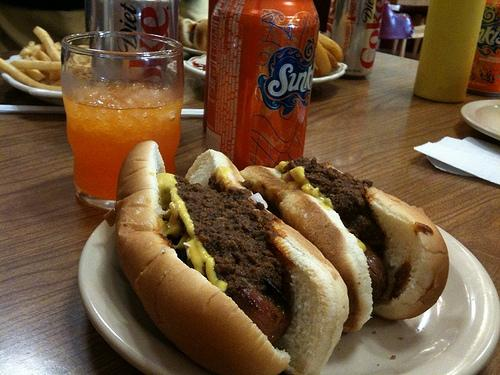cup: (62, 31, 183, 206)
